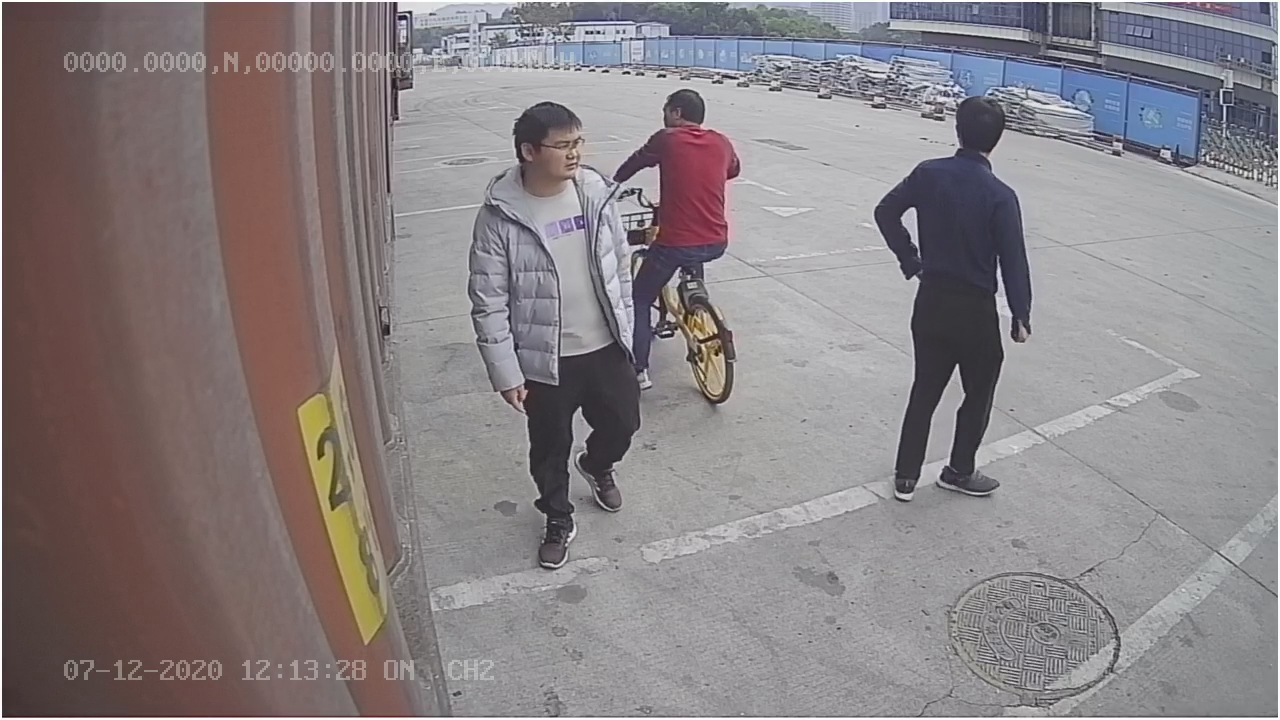person: (869, 87, 1039, 509)
